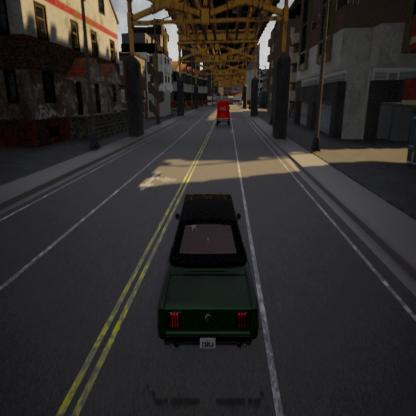Cars: (157, 190, 260, 350), (216, 97, 233, 127)
